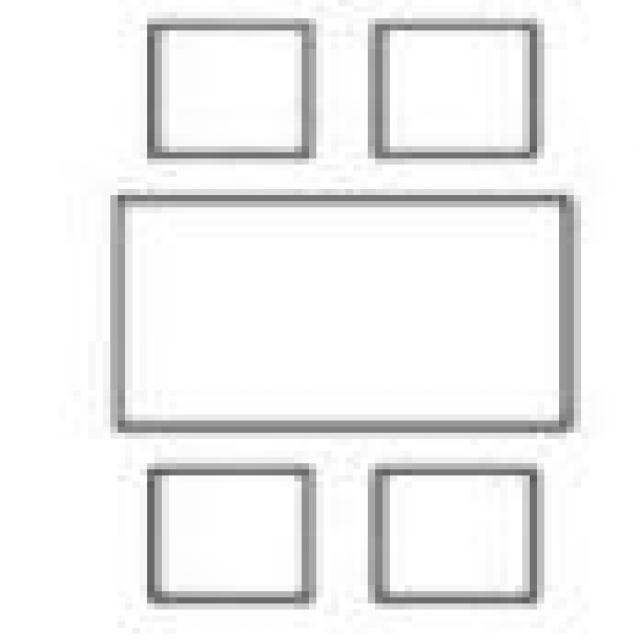table: (103, 12, 566, 604)
